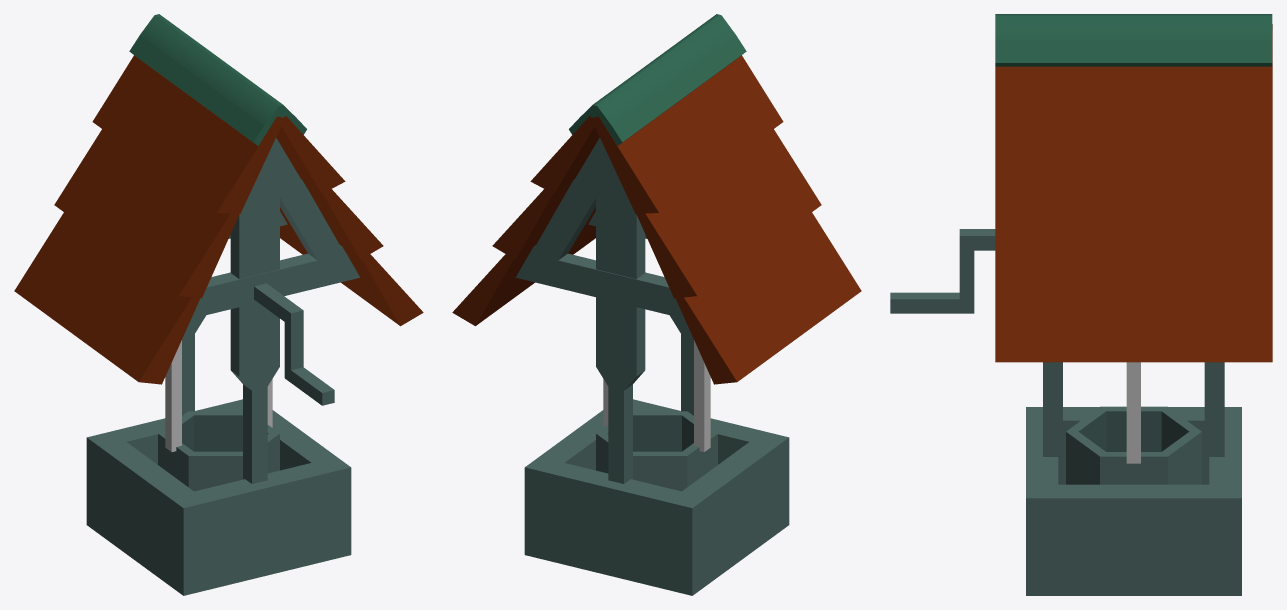
The model's file is well.FBX.
3 renders of one model, left to right at view 1: azimuth 30°, elevation 25°; view 2: azimuth 150°, elevation 25°; view 3: azimuth 270°, elevation 25°, orthographic. The views are drawn at different scales.
Parts seen in each view (by area): view 1: well; view 2: well; view 3: well.
Part boxes in pixels (left/top/right/bottom): well: left=14, top=14, right=423, bottom=595; well: left=452, top=14, right=861, bottom=595; well: left=890, top=14, right=1272, bottom=595.
Bounding box in the file's own units: 1.9 × 3.05 × 1.98.
Materials: 1 (1 with a texture image).
